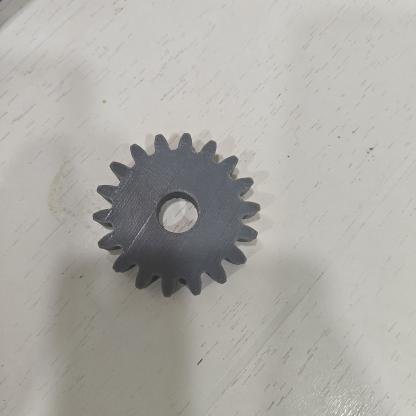gear: (72, 121, 293, 313)
